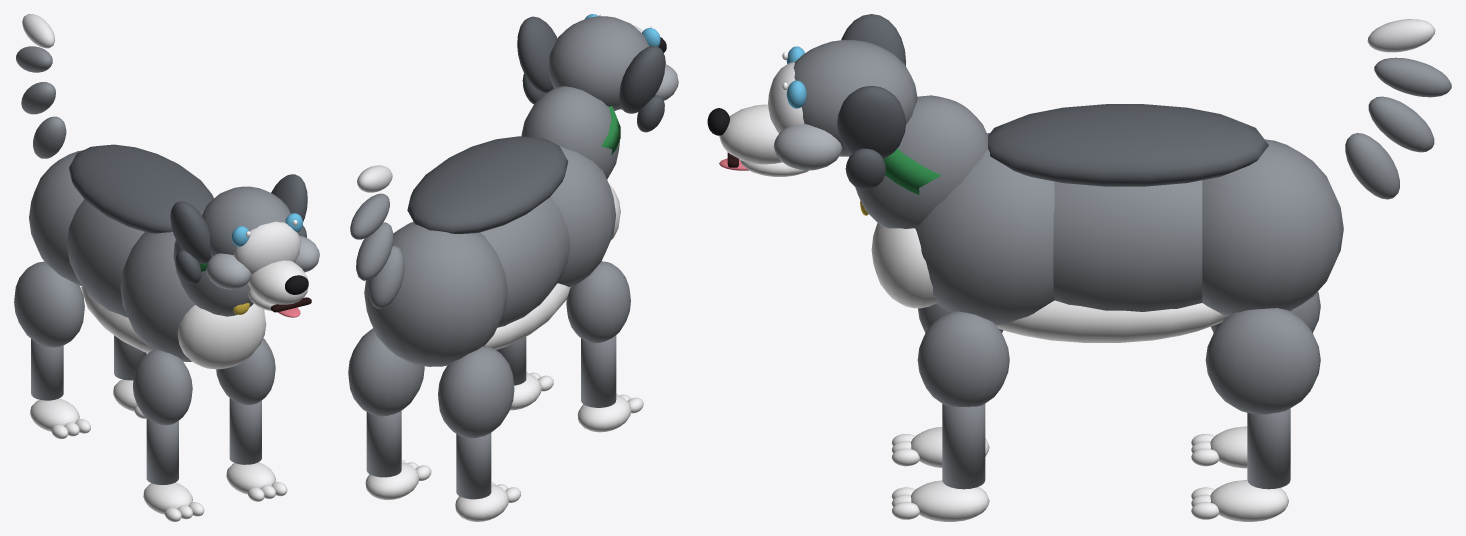
The model's file is dog3.glb.
The picture shows the model from 3 angles, left to right: view 1: azimuth 30°, elevation 25°; view 2: azimuth 150°, elevation 25°; view 3: azimuth 270°, elevation 25°; orthographic projection. The views are drawn at different scales.
Visible parts, largest first — view 1: body_8a8f96, body_5e636a, legBL_8a8f96, body_f0f0f2, legFL_8a8f96, legFR_8a8f96, head_5a5f66, head_8a8f96, tail_8a8f96, head_e8e8ec, head_f0f0f2, head_a8adb4 (+8 smaller); view 2: body_8a8f96, body_5e636a, legBL_8a8f96, legBR_8a8f96, legFL_8a8f96, head_8a8f96, head_5a5f66, tail_8a8f96, body_f0f0f2, legFL_f0f0f2, legBR_f0f0f2, legBL_f0f0f2 (+5 smaller); view 3: body_8a8f96, body_5e636a, legBR_8a8f96, legFR_8a8f96, body_f0f0f2, tail_8a8f96, head_8a8f96, head_5a5f66, head_f0f0f2, legBR_f0f0f2, legFR_f0f0f2, head_a8adb4 (+5 smaller).
Part boxes in pixels (<box>): body_8a8f96: <box>29,150,253,361</box>; body_5e636a: <box>69,144,213,233</box>; legBL_8a8f96: <box>14,261,84,400</box>; body_f0f0f2: <box>81,285,266,369</box>; legFL_8a8f96: <box>133,350,192,484</box>; legFR_8a8f96: <box>216,338,275,464</box>; head_5a5f66: <box>170,174,307,284</box>; head_8a8f96: <box>202,186,290,257</box>; tail_8a8f96: <box>16,46,66,158</box>; head_e8e8ec: <box>234,221,300,274</box>; head_f0f0f2: <box>248,260,308,311</box>; head_a8adb4: <box>206,235,319,289</box>; body_8a8f96: <box>364,86,619,366</box>; body_5e636a: <box>407,136,568,234</box>; legBL_8a8f96: <box>438,346,514,499</box>; legBR_8a8f96: <box>348,328,424,477</box>; legFL_8a8f96: <box>566,261,630,407</box>; head_8a8f96: <box>548,16,649,110</box>; head_5a5f66: <box>517,16,665,132</box>; tail_8a8f96: <box>350,193,404,308</box>; body_f0f0f2: <box>485,184,620,349</box>; legFL_f0f0f2: <box>577,393,643,432</box>; legBR_f0f0f2: <box>365,460,431,499</box>; legBL_f0f0f2: <box>455,481,520,521</box>; body_8a8f96: <box>855,95,1343,324</box>; body_5e636a: <box>988,104,1268,186</box>; legBR_8a8f96: <box>1205,308,1320,489</box>; legFR_8a8f96: <box>917,311,1009,489</box>; body_f0f0f2: <box>871,223,1227,342</box>; tail_8a8f96: <box>1345,57,1451,199</box>; head_8a8f96: <box>793,40,917,156</box>; head_5a5f66: <box>837,14,905,189</box>; head_f0f0f2: <box>719,104,809,176</box>; legBR_f0f0f2: <box>1191,480,1288,521</box>; legFR_f0f0f2: <box>891,480,989,521</box>; head_a8adb4: <box>773,124,842,170</box>.
Size of the model in its own units: 0.3677 by 0.9018 by 1.29.
